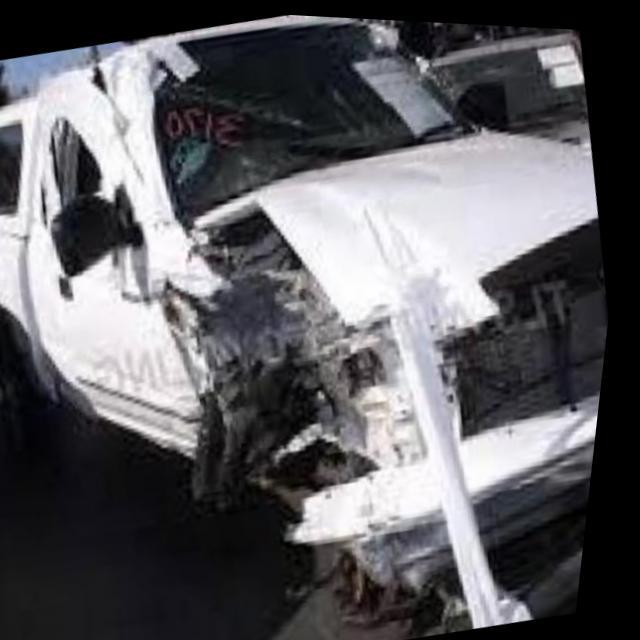crash: (29, 36, 615, 591)
